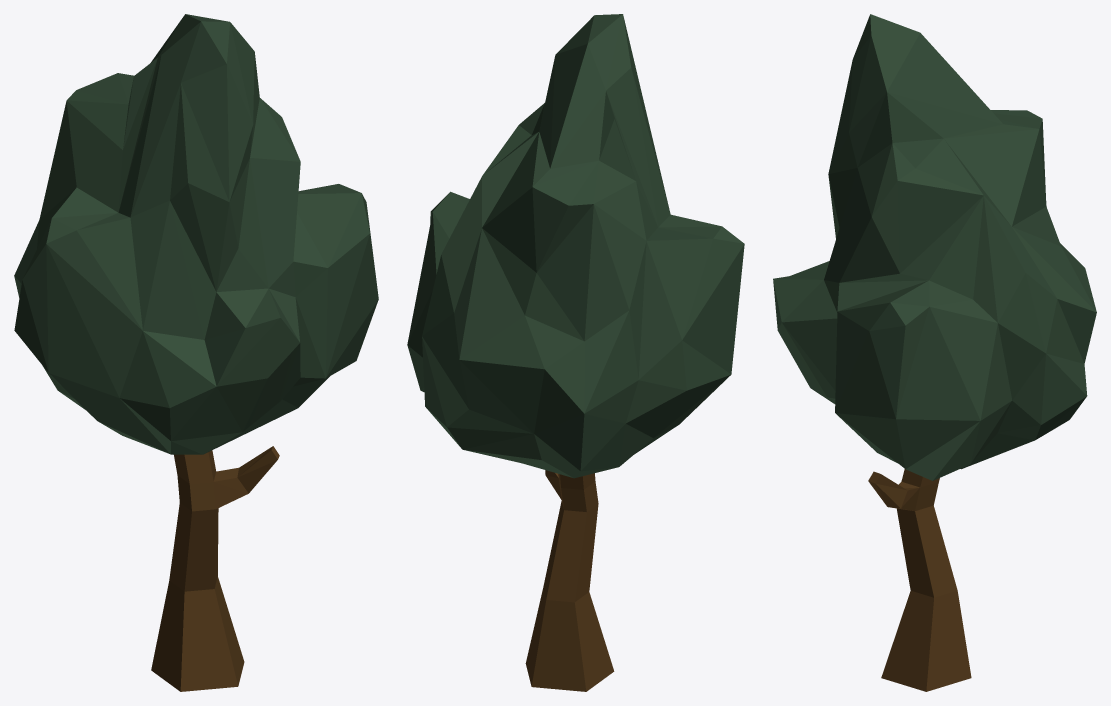
Rendered from SM_Env_Tree_01.fbx.
3 renders of one model, left to right at view 1: azimuth 30°, elevation 25°; view 2: azimuth 150°, elevation 25°; view 3: azimuth 270°, elevation 25°, orthographic. The views are drawn at different scales.
Visible parts, largest first — view 1: SM_Tree_01; view 2: SM_Tree_01; view 3: SM_Tree_01.
Boxes of the visible parts, x1,y1,x2,y2 form: SM_Tree_01: [14, 14, 378, 691]; SM_Tree_01: [407, 14, 744, 691]; SM_Tree_01: [773, 14, 1096, 691].
Bounding box in the file's own units: 3.18 × 6.21 × 2.83.
